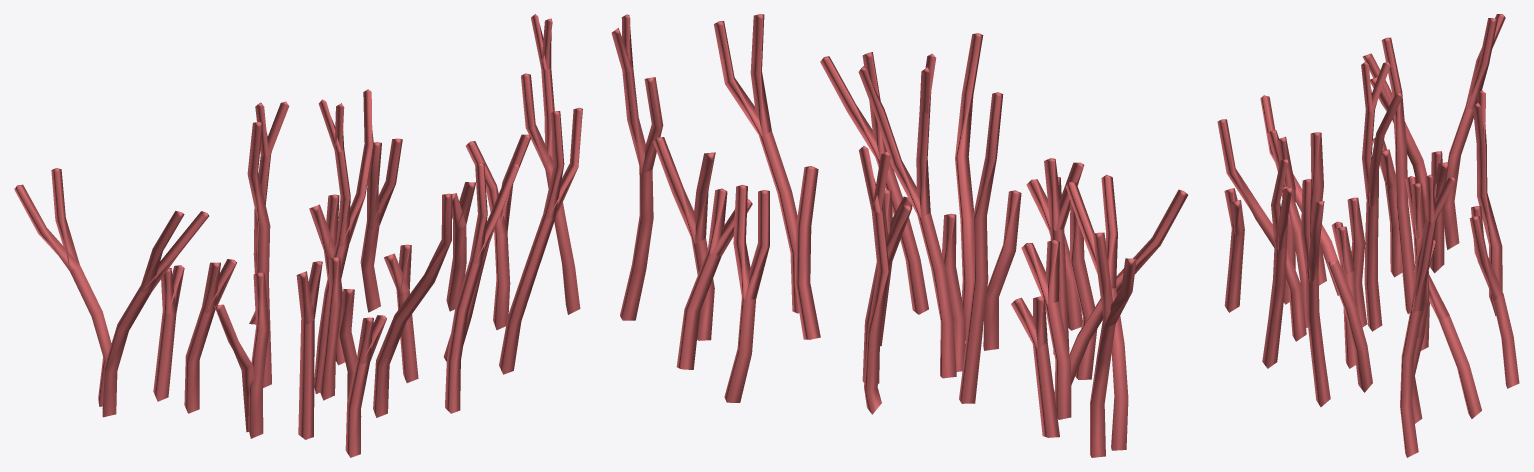
File: coral_sponge_A_medium.fbx
3 views of the same model, side by side, from view 1: azimuth 30°, elevation 25°; view 2: azimuth 150°, elevation 25°; view 3: azimuth 270°, elevation 25° (orthographic). The views are drawn at different scales.
Parts seen in each view (by area): view 1: coral_sponge_A_medium; view 2: coral_sponge_A_medium; view 3: coral_sponge_A_medium.
Boxes of the visible parts, x1,y1,x2,y2 form: coral_sponge_A_medium: [14, 14, 582, 457]; coral_sponge_A_medium: [611, 14, 1187, 457]; coral_sponge_A_medium: [1217, 14, 1519, 457].
Bounding box in the file's own units: 192 × 105 × 102.
